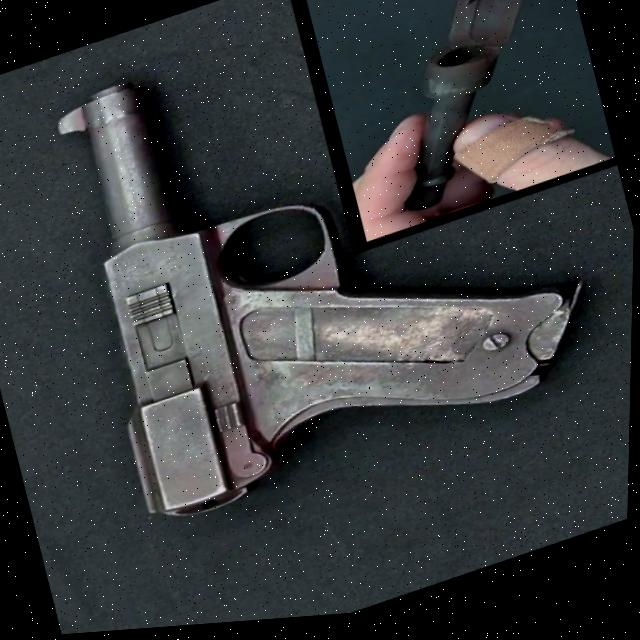pistol: (42, 0, 617, 539)
